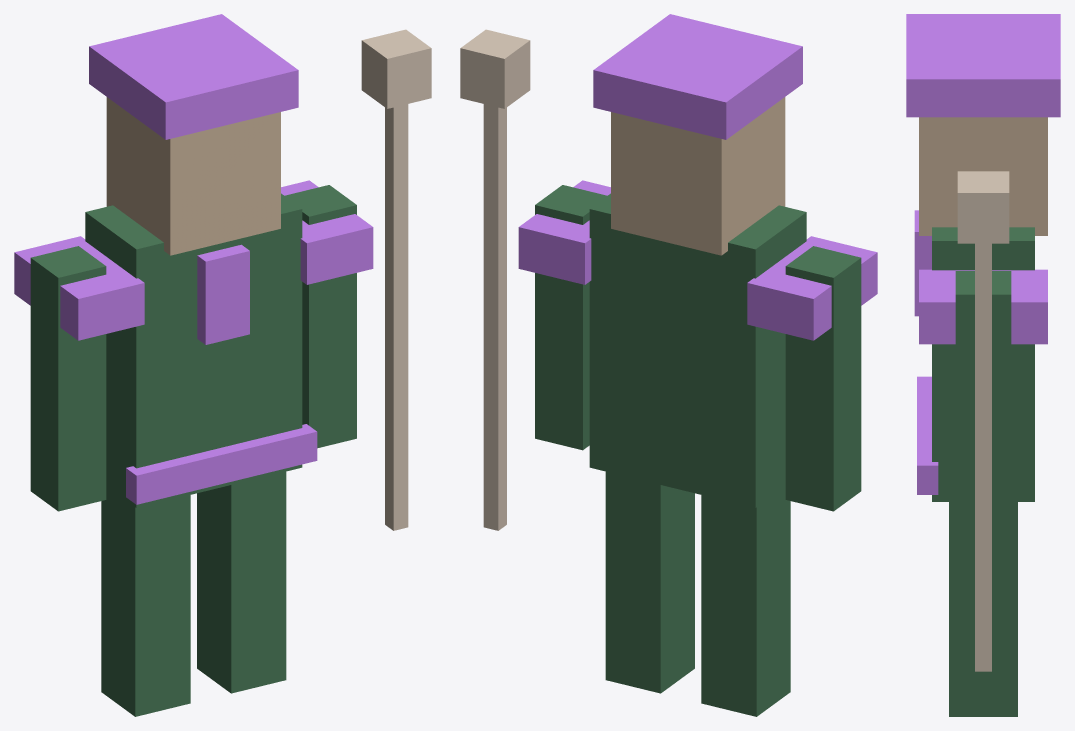
Rendered from 18_mirek_holloway_ranger_near.glb.
3 views of the same model, side by side, from view 1: azimuth 30°, elevation 25°; view 2: azimuth 150°, elevation 25°; view 3: azimuth 270°, elevation 25° (orthographic).
Parts seen in each view (by area): view 1: Mirek Holloway, Ranger near; view 2: Mirek Holloway, Ranger near; view 3: Mirek Holloway, Ranger near.
Boxes of the visible parts, box(x1,y1,x2,y2) form: Mirek Holloway, Ranger near: box(14, 14, 431, 716); Mirek Holloway, Ranger near: box(460, 14, 877, 716); Mirek Holloway, Ranger near: box(906, 14, 1060, 716).
Size of the model in its own units: 0.9453 by 1.52 by 0.3353.
